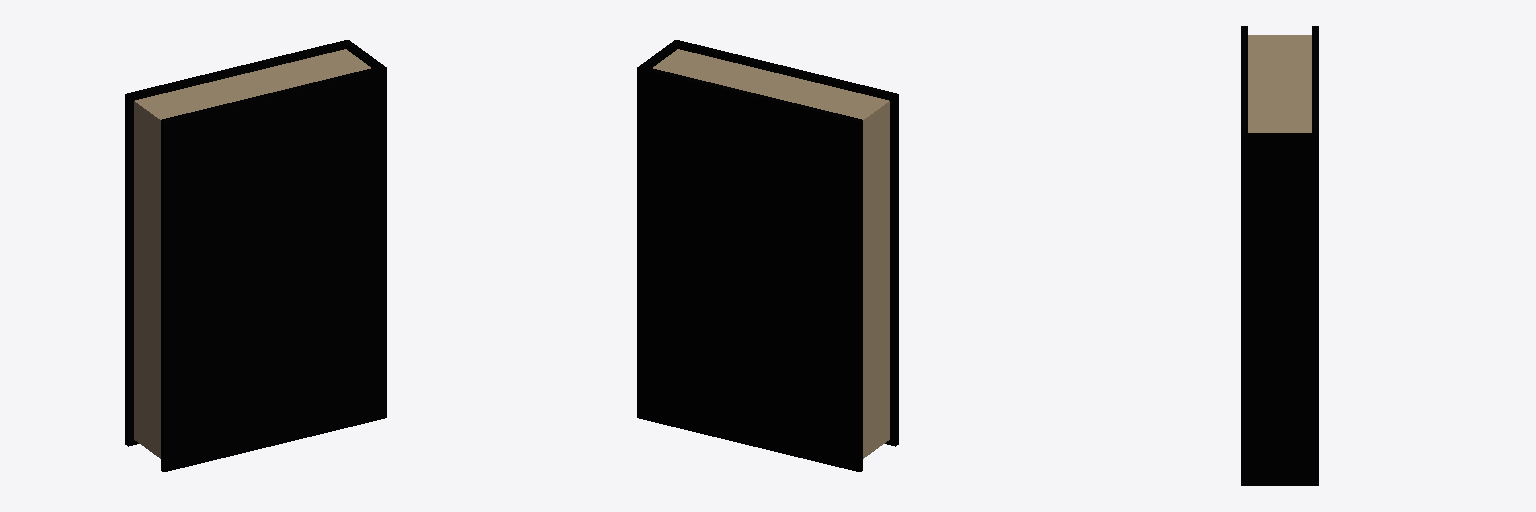
Rendered from book.obj.
3 renders of one model, left to right at view 1: azimuth 30°, elevation 25°; view 2: azimuth 150°, elevation 25°; view 3: azimuth 270°, elevation 25°, orthographic.
Visible parts, largest first — view 1: book_mesh_Cube.001; view 2: book_mesh_Cube.001; view 3: book_mesh_Cube.001.
Part boxes in pixels (x1,y1,x2,y2): book_mesh_Cube.001: (125,40,386,471); book_mesh_Cube.001: (637,40,898,471); book_mesh_Cube.001: (1241,26,1318,485).
Size of the model in its own units: 0.2 by 0.3 by 0.06.